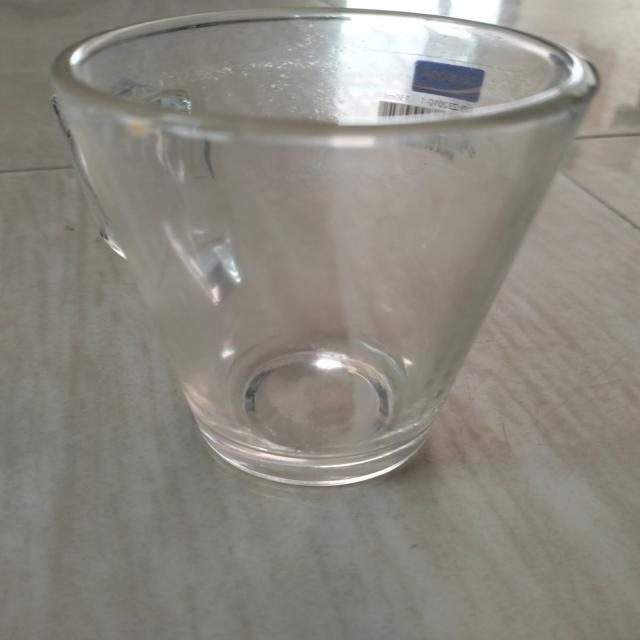glass-VX4N: (52, 9, 601, 492)
